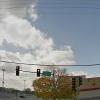Traffic light: (12, 63, 41, 78)
